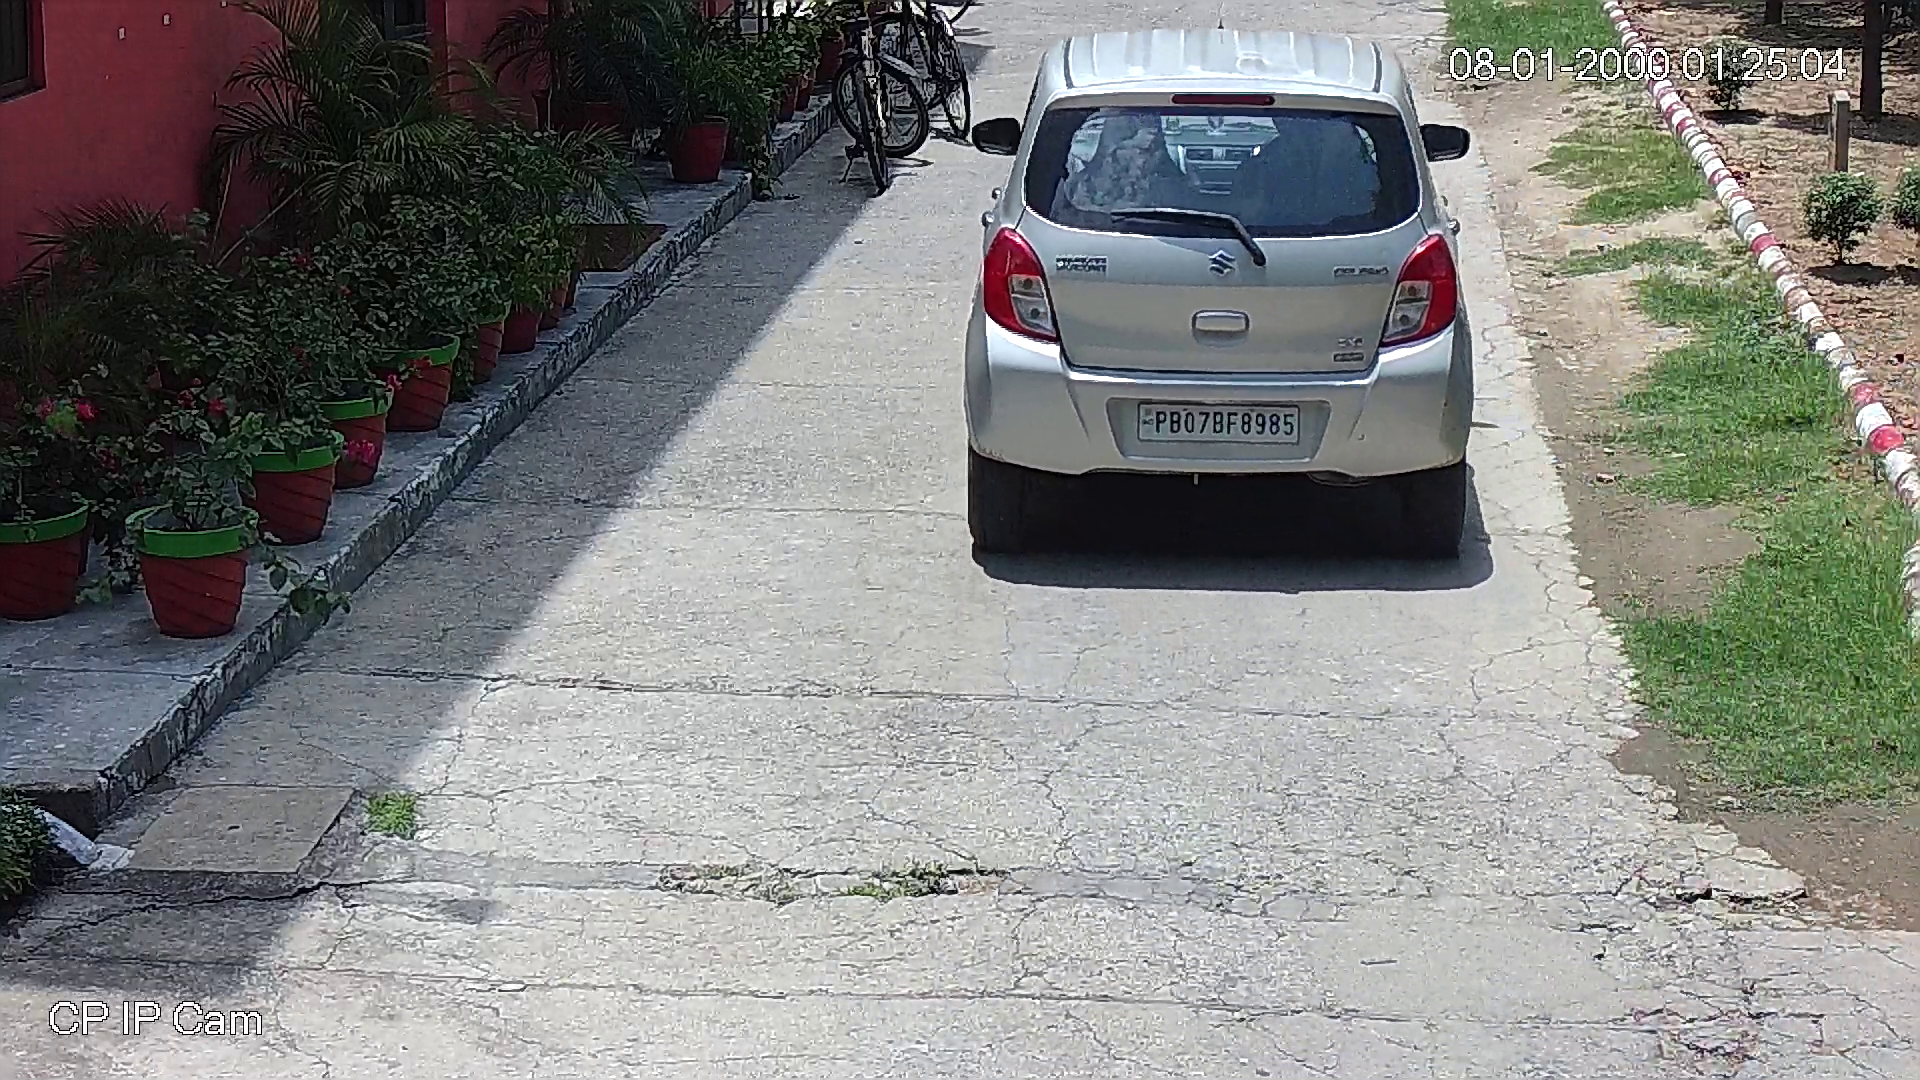plate: (1149, 401, 1300, 442)
